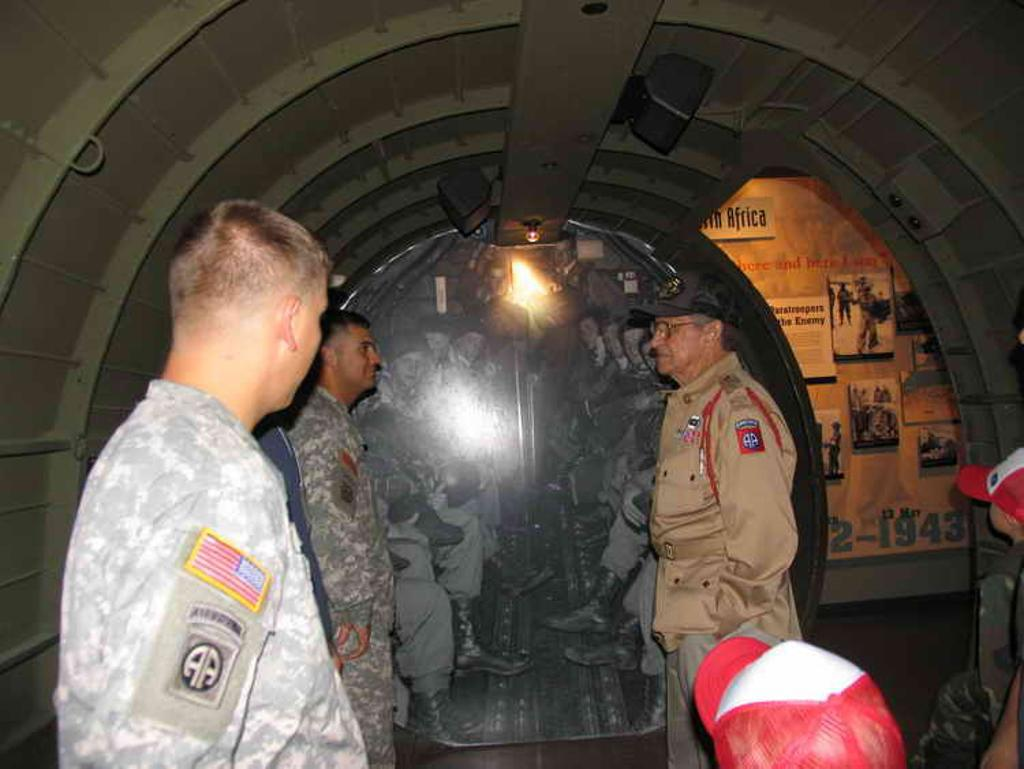face: (254, 289, 328, 411), (652, 310, 704, 374), (336, 335, 379, 389), (398, 352, 425, 386), (624, 331, 646, 364), (428, 337, 449, 367), (462, 333, 483, 362), (604, 329, 623, 356), (490, 269, 508, 295), (581, 321, 597, 348), (556, 243, 571, 266)
